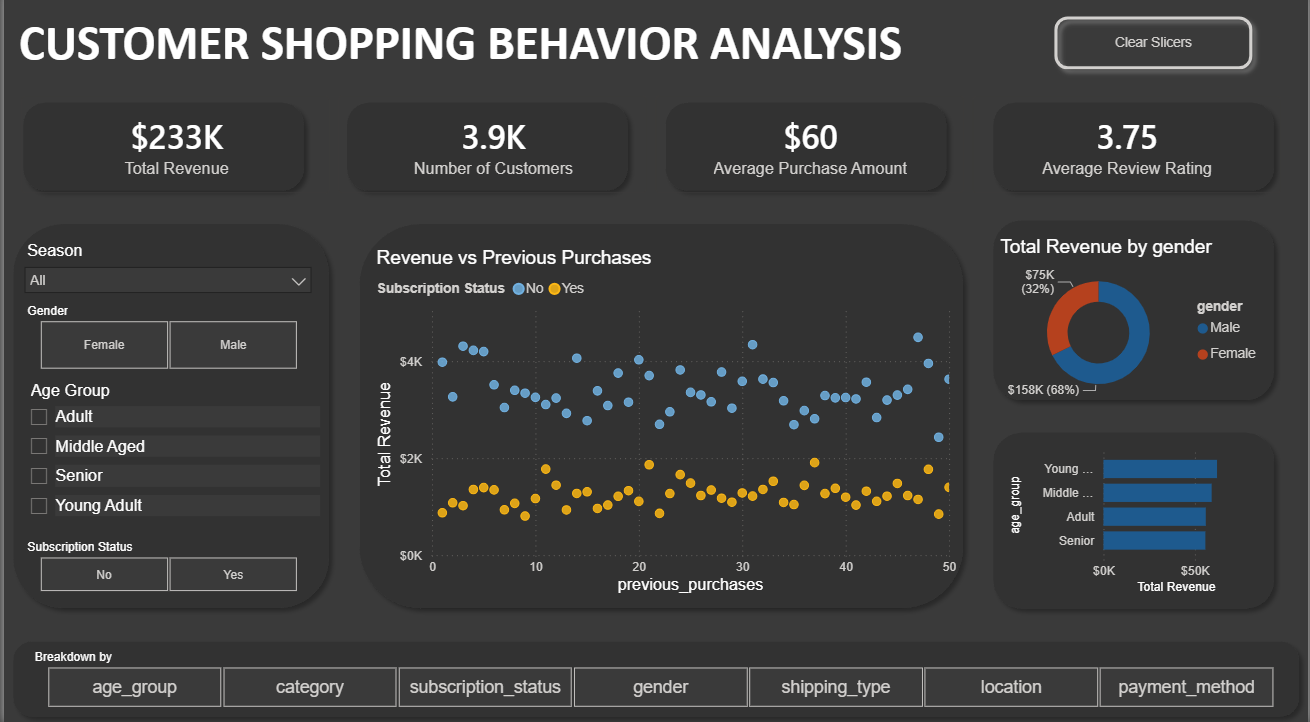

Layout of this report page (visuals, bound fields, positions):
{"tool":"powerbi","page":{"name":"CUSTOMER SHOPPING BEHAVIOR ANALYSIS","canvas":[1280,720],"ordinal":0},"visuals":[{"type":"group","id":"g1","title":"Background","box":[0,100.2,1280.3,620.2],"z":0},{"type":"shape","box":[9.6,100.2,293.7,104.3],"z":0,"group":"g1"},{"type":"cardVisual","fields":{"Data":["_Measures.Total Revenue","_Measures.Number of Customers","_Measures.Average Purchase Amount","_Measures.Average Review Rating"]},"box":[0,86.3,1270.3,130.8],"z":1000},{"type":"shape","box":[328,100.2,293.7,104.3],"z":1000,"group":"g1"},{"type":"shape","box":[640.8,100.2,293.7,104.3],"z":2000,"group":"g1"},{"type":"clusteredBarChart","title":"Total Revenue by Age Group","fields":{"Category":["customer_shopping_behavior customer.age_group","customer_shopping_behavior customer.category","customer_shopping_behavior customer.subscription_status","customer_shopping_behavior customer.gender","customer_shopping_behavior customer.shipping_type","customer_shopping_behavior customer.location","customer_shopping_behavior customer.payment_method"],"Y":["_Measures.Total Revenue"]},"box":[982.8,438,260.1,158.3],"z":2000},{"type":"textbox","box":[9.6,16.5,930.4,83.7],"z":3000},{"type":"shape","box":[961.9,100.2,293.7,104.3],"z":3000,"group":"g1"},{"type":"shape","box":[340.3,219.6,610.6,395.2],"z":4000,"group":"g1"},{"type":"donutChart","fields":{"Y":["_Measures.Total Revenue"],"Category":["customer_shopping_behavior customer.gender"]},"box":[973,240.5,269.9,169.3],"z":4000},{"type":"shape","box":[0,219.6,328,395.2],"z":5000,"group":"g1"},{"type":"slicer","fields":{"Values":["Breakdown by.Breakdown by"]},"box":[17.2,641.7,1252.8,67.5],"z":5000},{"type":"shape","box":[961.9,215.5,293.7,194.9],"z":6000,"group":"g1"},{"type":"scatterChart","title":"Revenue vs Previous Purchases","fields":{"X":["customer_shopping_behavior customer.previous_purchases"],"Series":["customer_shopping_behavior customer.subscription_status"],"Y":["_Measures.Total Revenue"]},"box":[360.7,251.5,579.1,344.8],"z":6000},{"type":"slicer","fields":{"Values":["customer_shopping_behavior customer.season"]},"box":[9.8,240.5,301.8,61.4],"z":7000},{"type":"shape","box":[0,628.5,1280.3,91.9],"z":7000,"group":"g1"},{"type":"slicer","fields":{"Values":["customer_shopping_behavior customer.gender"]},"box":[9.8,301.8,301.8,76.1],"z":8000},{"type":"shape","box":[961.9,424,293.7,190.7],"z":8000,"group":"g1"},{"type":"slicer","fields":{"Values":["customer_shopping_behavior customer.age_group"]},"box":[13.5,377.9,301.8,152.1],"z":9000},{"type":"slicer","fields":{"Values":["customer_shopping_behavior customer.subscription_status"]},"box":[9.8,533.7,301.8,62.6],"z":10000},{"type":"actionButton","box":[1022.1,16,212.3,69.9],"z":10001}]}

Visuals, with their boxes in screenshot pixels (x1, y1, x2, y2), scaled from the page's 1280x720 canvas onto the 1310x722 screenshot:
"Background" group: <bbox>0, 100, 1309, 721</bbox>
shape: <bbox>10, 100, 310, 205</bbox>
cardVisual - _Measures.Total Revenue x _Measures.Number of Customers: <bbox>0, 87, 1300, 218</bbox>
shape: <bbox>336, 100, 636, 205</bbox>
shape: <bbox>656, 100, 956, 205</bbox>
"Total Revenue by Age Group" clusteredBarChart: <bbox>1006, 439, 1272, 598</bbox>
textbox: <bbox>10, 17, 962, 100</bbox>
shape: <bbox>984, 100, 1285, 205</bbox>
shape: <bbox>348, 220, 973, 617</bbox>
donutChart - _Measures.Total Revenue x customer_shopping_behavior customer.gender: <bbox>996, 241, 1272, 411</bbox>
shape: <bbox>0, 220, 336, 617</bbox>
slicer - Breakdown by.Breakdown by: <bbox>18, 643, 1300, 711</bbox>
shape: <bbox>984, 216, 1285, 412</bbox>
"Revenue vs Previous Purchases" scatterChart: <bbox>369, 252, 962, 598</bbox>
slicer - customer_shopping_behavior customer.season: <bbox>10, 241, 319, 303</bbox>
shape: <bbox>0, 630, 1309, 721</bbox>
slicer - customer_shopping_behavior customer.gender: <bbox>10, 303, 319, 379</bbox>
shape: <bbox>984, 425, 1285, 616</bbox>
slicer - customer_shopping_behavior customer.age_group: <bbox>14, 379, 323, 531</bbox>
slicer - customer_shopping_behavior customer.subscription_status: <bbox>10, 535, 319, 598</bbox>
actionButton: <bbox>1046, 16, 1263, 86</bbox>
